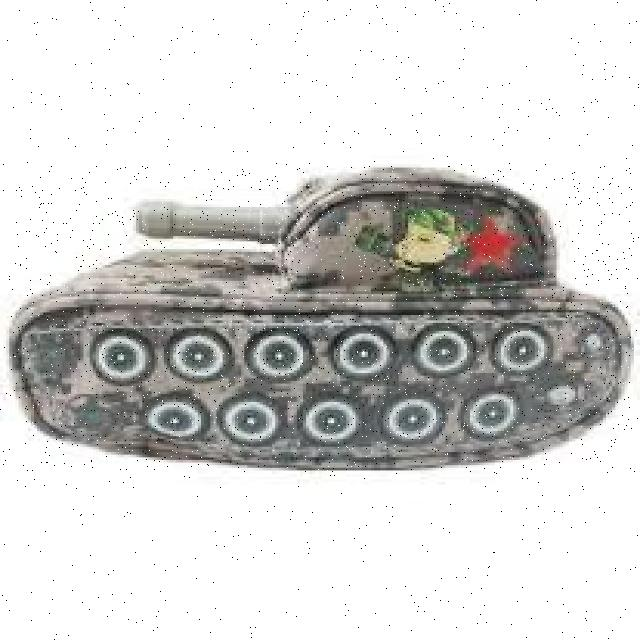MIL_MBT: (9, 164, 634, 472)
